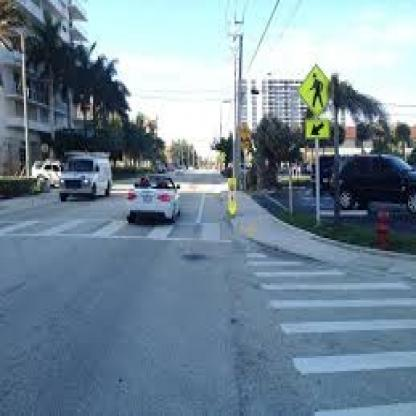Crosswalk: (245, 230, 415, 416), (0, 219, 236, 250)
